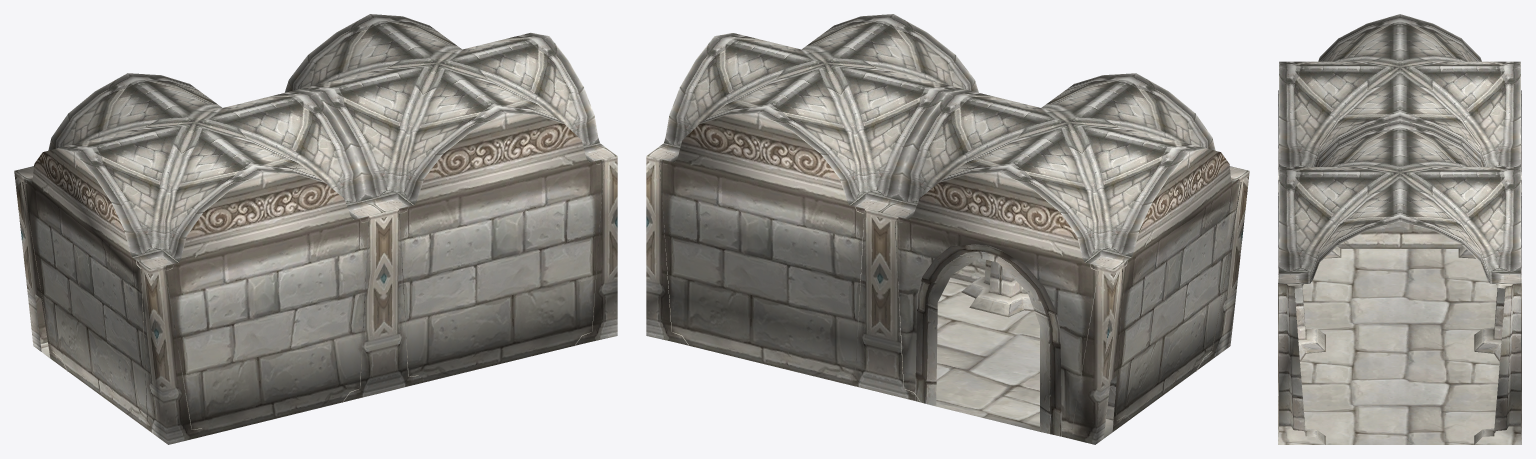
The model's file is stormwind_125.fbx.
The picture shows the model from 3 angles, left to right: view 1: azimuth 30°, elevation 25°; view 2: azimuth 150°, elevation 25°; view 3: azimuth 270°, elevation 25°; orthographic projection. The views are drawn at different scales.
Parts seen in each view (by area): view 1: stormwind_125_62, stormwind_125_111, stormwind_125_60; view 2: stormwind_125_62, stormwind_125_111, stormwind_125_52, stormwind_125_60, stormwind_125_61; view 3: stormwind_125_111, stormwind_125_52, stormwind_125_60, stormwind_125_62, stormwind_125_61.
Boxes of the visible parts, left/top/right/bottom form: stormwind_125_62: left=14, top=113, right=617, bottom=444; stormwind_125_111: left=14, top=14, right=617, bottom=269; stormwind_125_60: left=22, top=165, right=604, bottom=429; stormwind_125_62: left=646, top=113, right=1249, bottom=444; stormwind_125_111: left=647, top=14, right=1248, bottom=269; stormwind_125_52: left=936, top=278, right=1113, bottom=438; stormwind_125_60: left=659, top=165, right=1241, bottom=436; stormwind_125_61: left=660, top=152, right=1240, bottom=429; stormwind_125_111: left=1278, top=14, right=1521, bottom=283; stormwind_125_52: left=1278, top=249, right=1521, bottom=444; stormwind_125_60: left=1278, top=93, right=1521, bottom=434; stormwind_125_62: left=1278, top=145, right=1521, bottom=444; stormwind_125_61: left=1278, top=90, right=1521, bottom=444.
Bounding box in the file's own units: 18.41 × 9.25 × 9.15.
